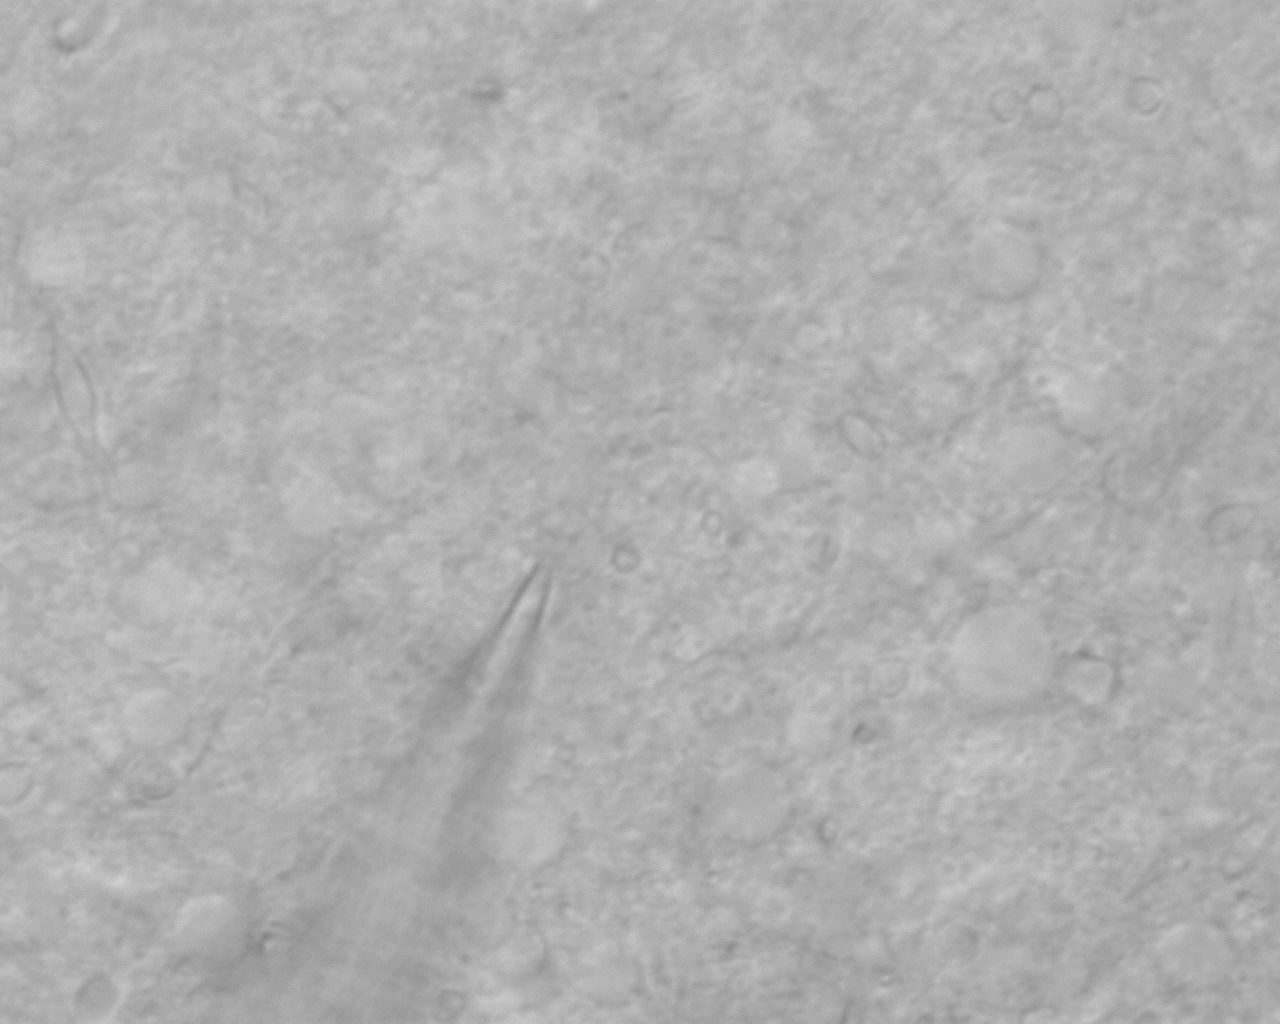neuron: (933, 599, 1079, 716)
